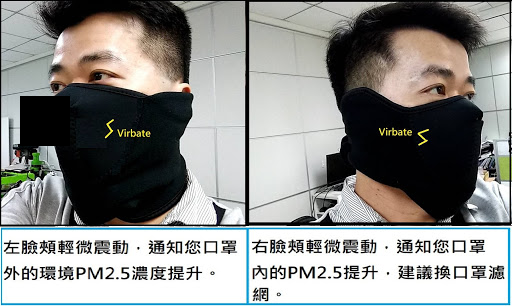with_mask: (48, 44, 184, 205), (379, 61, 480, 205)
